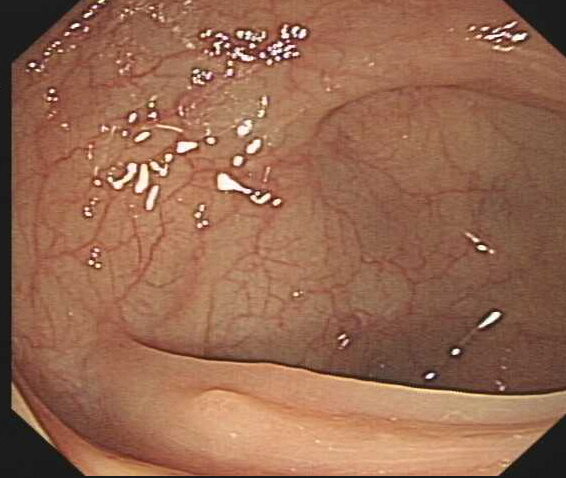others: (186, 386, 282, 413)
